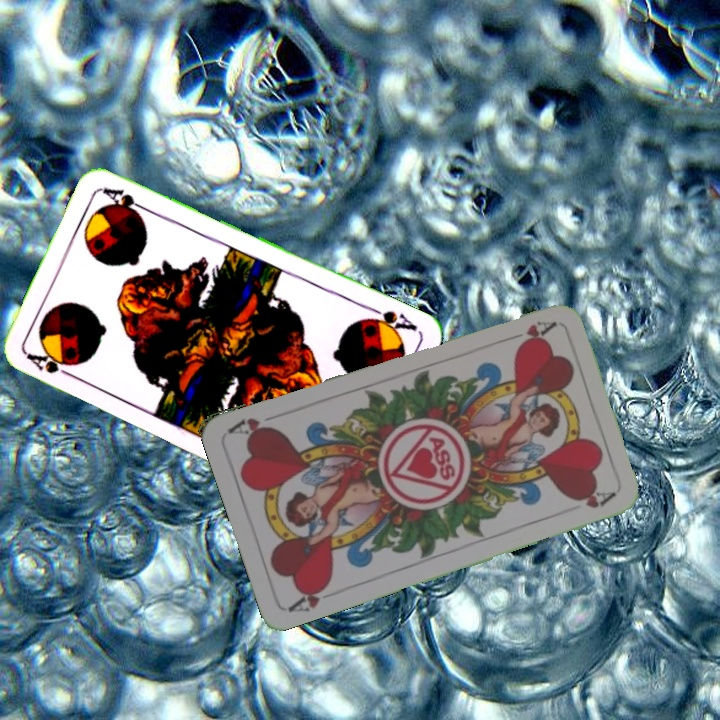HA: (284, 577, 335, 615), (500, 316, 558, 345)
SA: (361, 303, 420, 340), (23, 346, 80, 381)
